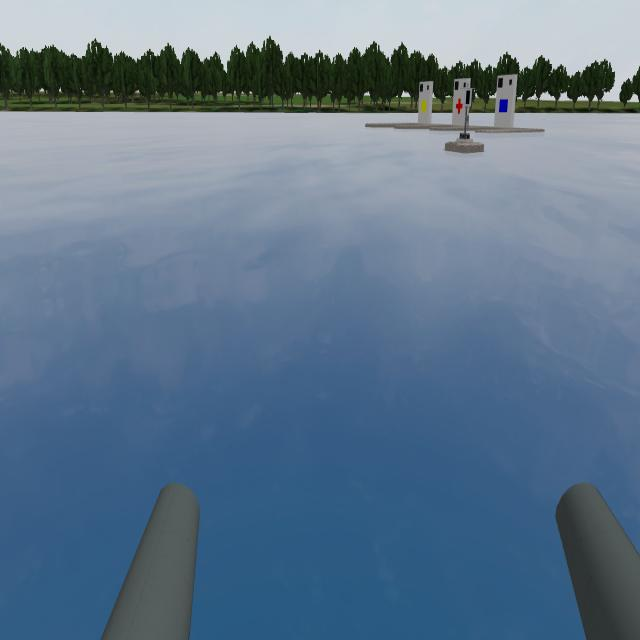black_pole: (462, 83, 479, 110)
